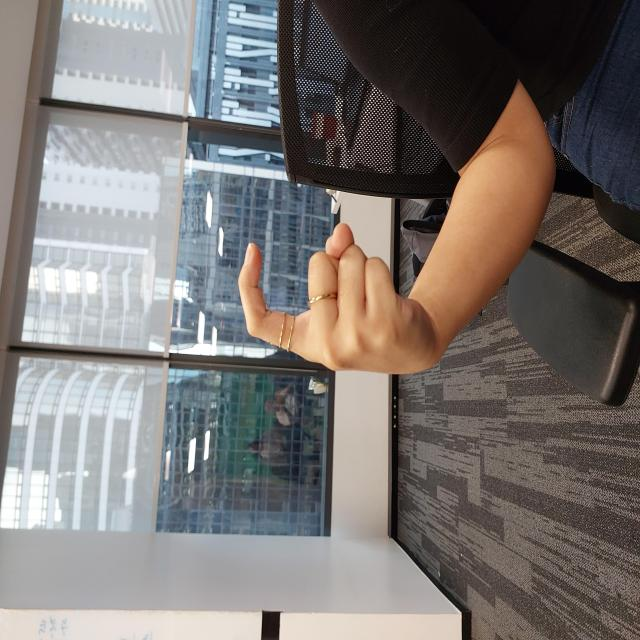X: (262, 235, 420, 438)
